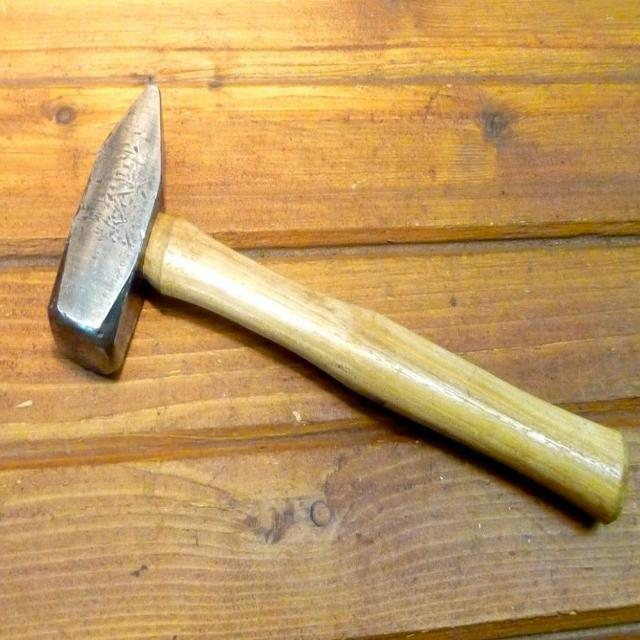hammer: (43, 78, 632, 536)
